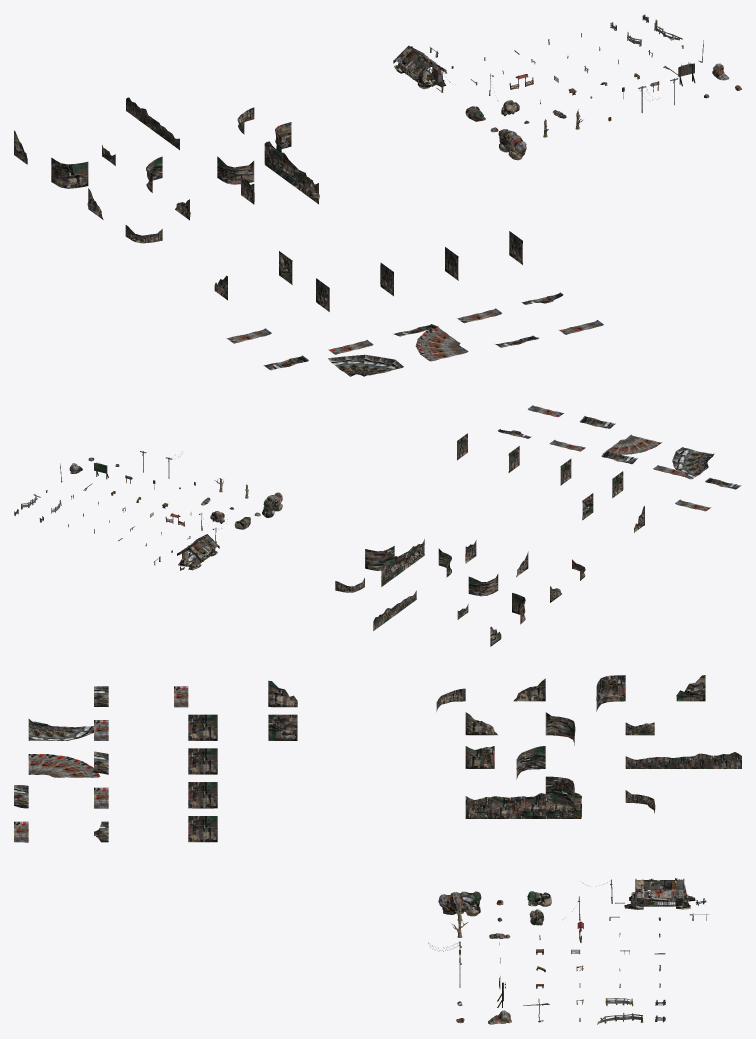
The model's file is alone-in-the-dusk.glb.
3 renders of one model, top to bottom at view 1: azimuth 30°, elevation 25°; view 2: azimuth 150°, elevation 25°; view 3: azimuth 270°, elevation 25°, orthographic. The views are drawn at different scales.
Parts seen in each view (by area): view 1: Covered_bridge_03, wallTop_02_long, 5_road_02_bend, 5_road_01_bend, wall_01_corner_01, lowWallTop_03_long, wallTop_02_corner_01, rocks_big; view 2: Covered_bridge_03, 5_road_02_bend, wallTop_02_long, 5_road_01_bend, wall_01_corner_02, wallTop_02_corner_02, lowWallTop_03_long; view 3: wallTop_02_long, Covered_bridge_03, lowWallTop_03_long, 5_road_01_bend, 5_road_02_bend, rocks_big, wall_01_corner_01, 01_wall_01_seamless, 02_wall_01_seamless, 03_wall_01_seamless, 04_wall_01_seamless, 05_wall_01_seamless (+4 smaller).
Boxes of the visible parts, x1,y1,x2,y2 form: Covered_bridge_03: (393, 45, 446, 89); wallTop_02_long: (264, 141, 319, 204); 5_road_02_bend: (328, 354, 403, 376); 5_road_01_bend: (415, 326, 468, 361); wall_01_corner_01: (51, 157, 88, 188); lowWallTop_03_long: (126, 97, 179, 149); wallTop_02_corner_01: (217, 156, 254, 184); rocks_big: (498, 129, 526, 160); Covered_bridge_03: (177, 534, 219, 570); 5_road_02_bend: (672, 447, 714, 479); wallTop_02_long: (381, 539, 424, 586); 5_road_01_bend: (602, 434, 661, 454); wall_01_corner_02: (365, 546, 394, 570); wallTop_02_corner_02: (468, 574, 498, 596); lowWallTop_03_long: (373, 590, 416, 630); wallTop_02_long: (465, 792, 581, 818); Covered_bridge_03: (624, 878, 695, 909); lowWallTop_03_long: (625, 752, 741, 768); 5_road_01_bend: (28, 754, 100, 777); 5_road_02_bend: (28, 719, 93, 740); rocks_big: (438, 891, 481, 916); wall_01_corner_01: (596, 675, 625, 711); 01_wall_01_seamless: (268, 714, 297, 740); 02_wall_01_seamless: (188, 816, 217, 842); 03_wall_01_seamless: (188, 782, 217, 808); 04_wall_01_seamless: (188, 748, 217, 774); 05_wall_01_seamless: (188, 714, 217, 740).
Size of the model in its own units: 442 by 27.38 by 401.
1 material, 1 textured.
